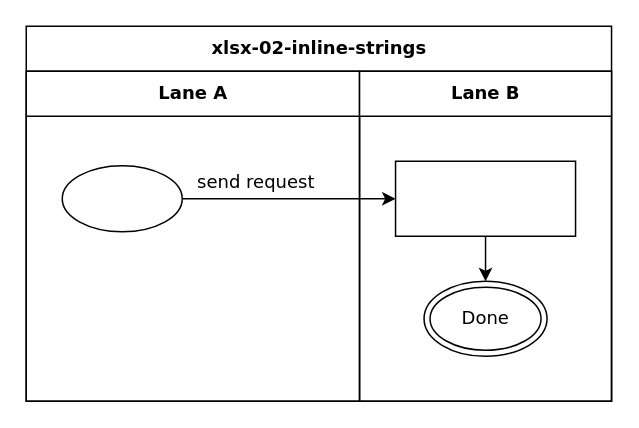
Image size: 639x428. Some labels were removed from this diagram. The shapes that lost their labels are listed below. From the top down, each one's centre as x and y in pixels, then its label:
At (121,198): "Start".
At (485,198): "Process".
